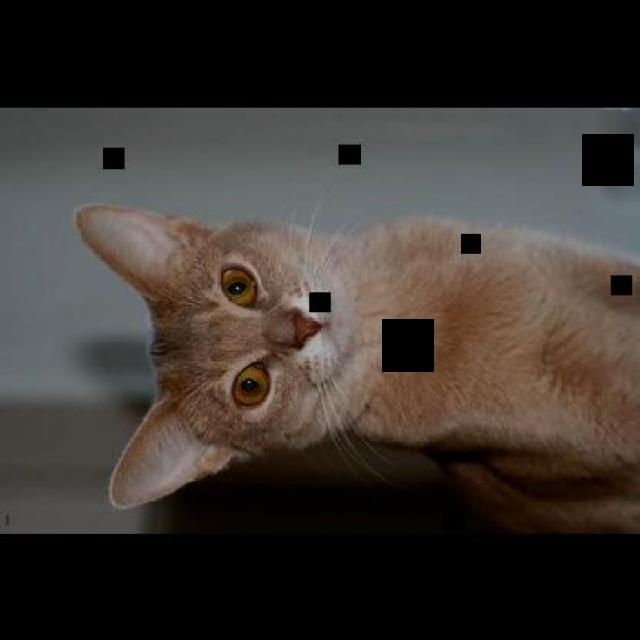unauthorized: (72, 200, 638, 535)
